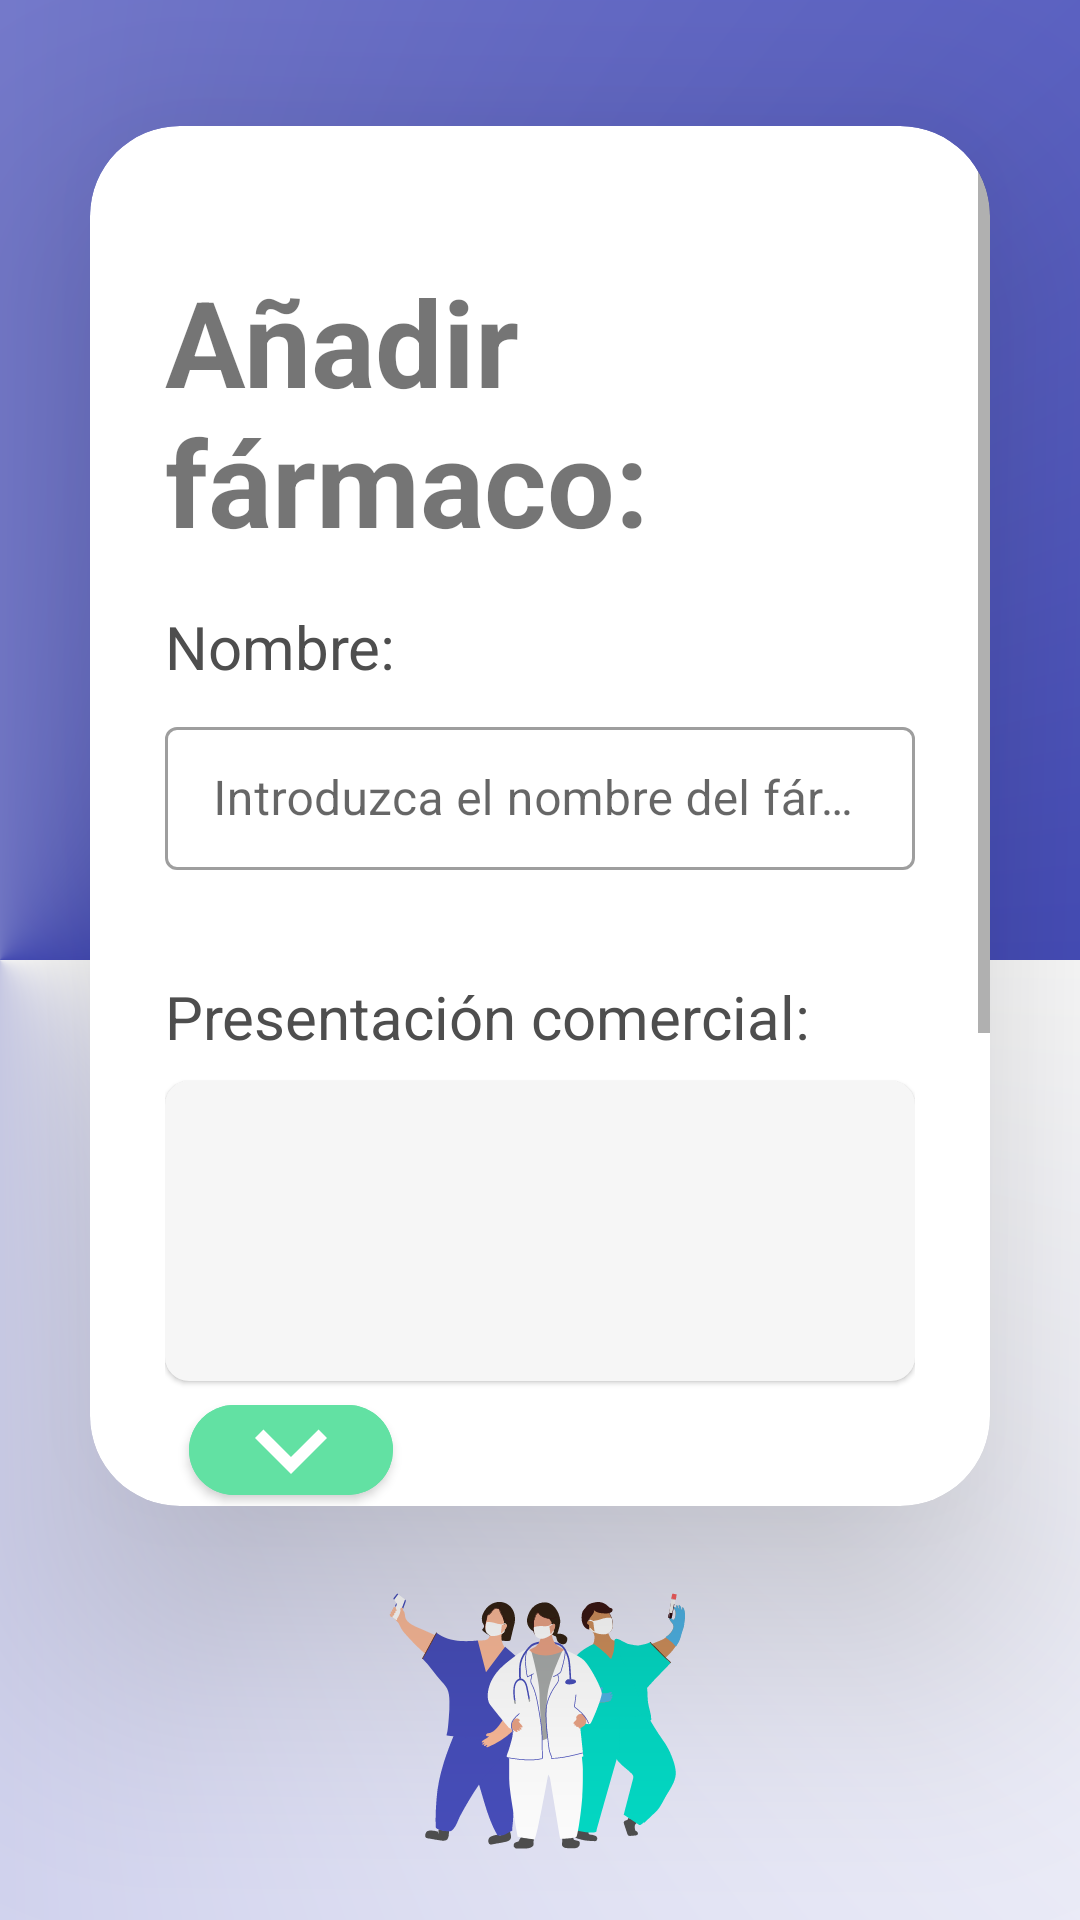

Point at icon controls on the screen. Image size 1080×1920, points as point (x, y).
more: point (291, 1450)
